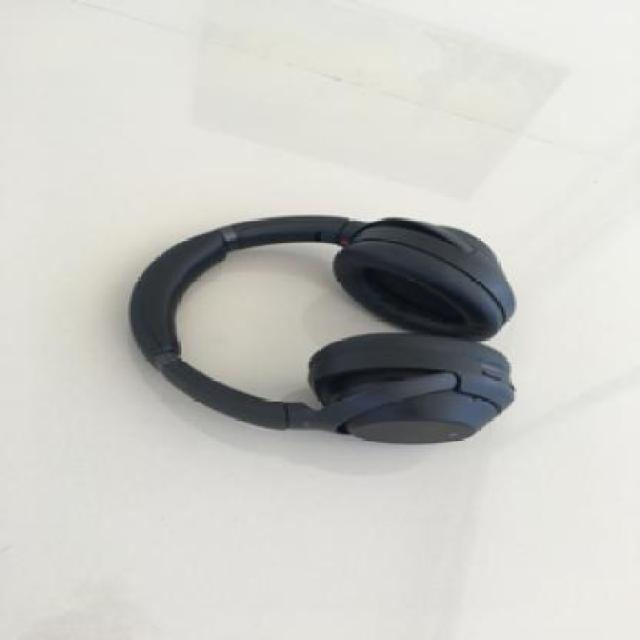earphone: (80, 200, 592, 513)
